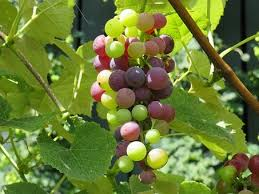grapes: (90, 10, 180, 186)
